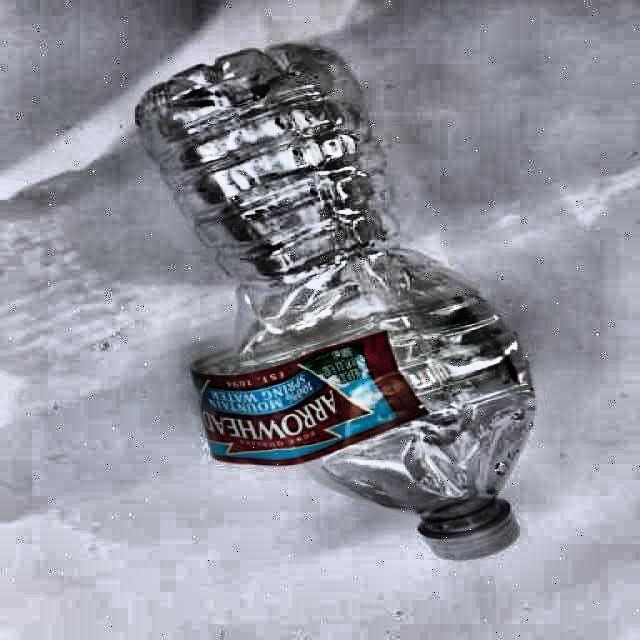plastic: (136, 44, 534, 558)
